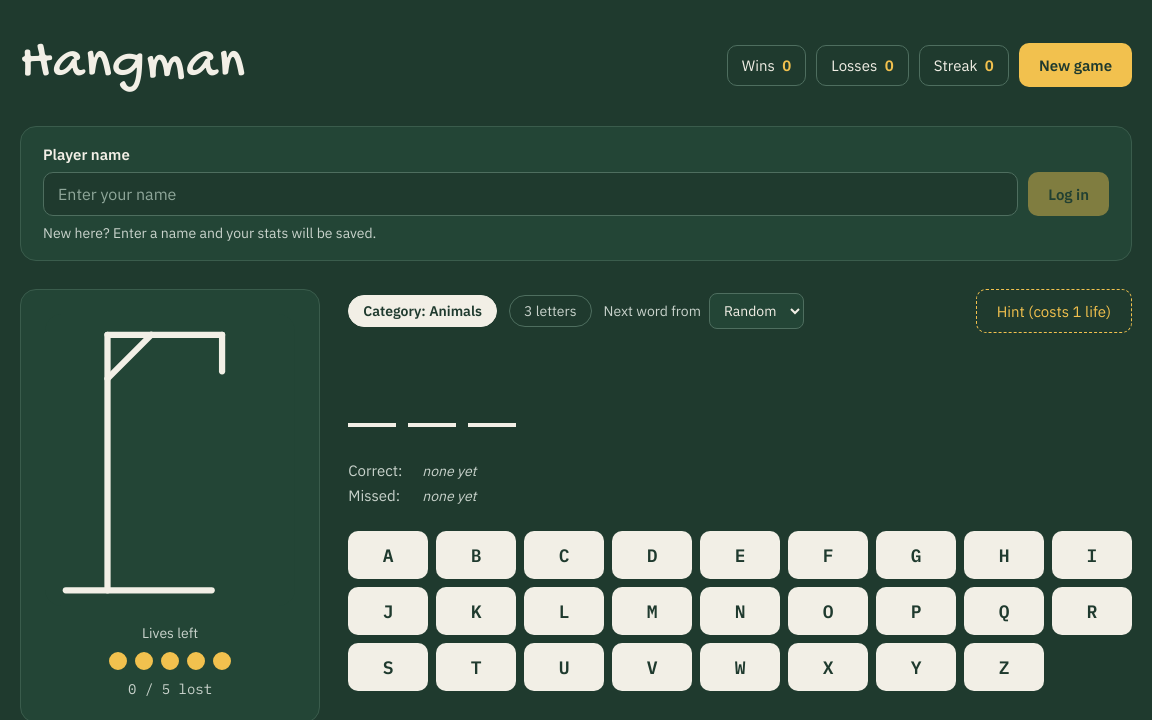
App — player login and stats › does not call the API when a guest finishes a game
What coordinates should you click on to do the following:
click the button named "Guess C"
I would click on:
 (564, 555)
Its box is [524,531,604,579].
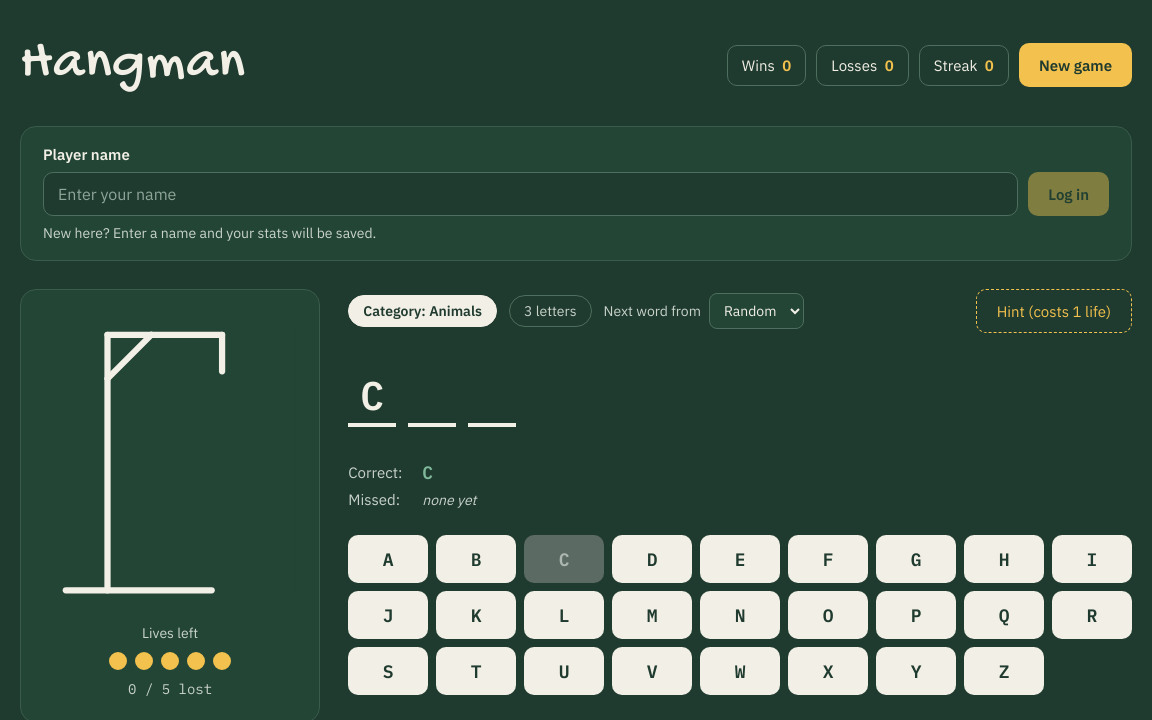
What coordinates should you click on to do the following:
click the button "A"
I would click on:
 (388, 559)
Its box is [348,535,428,583].
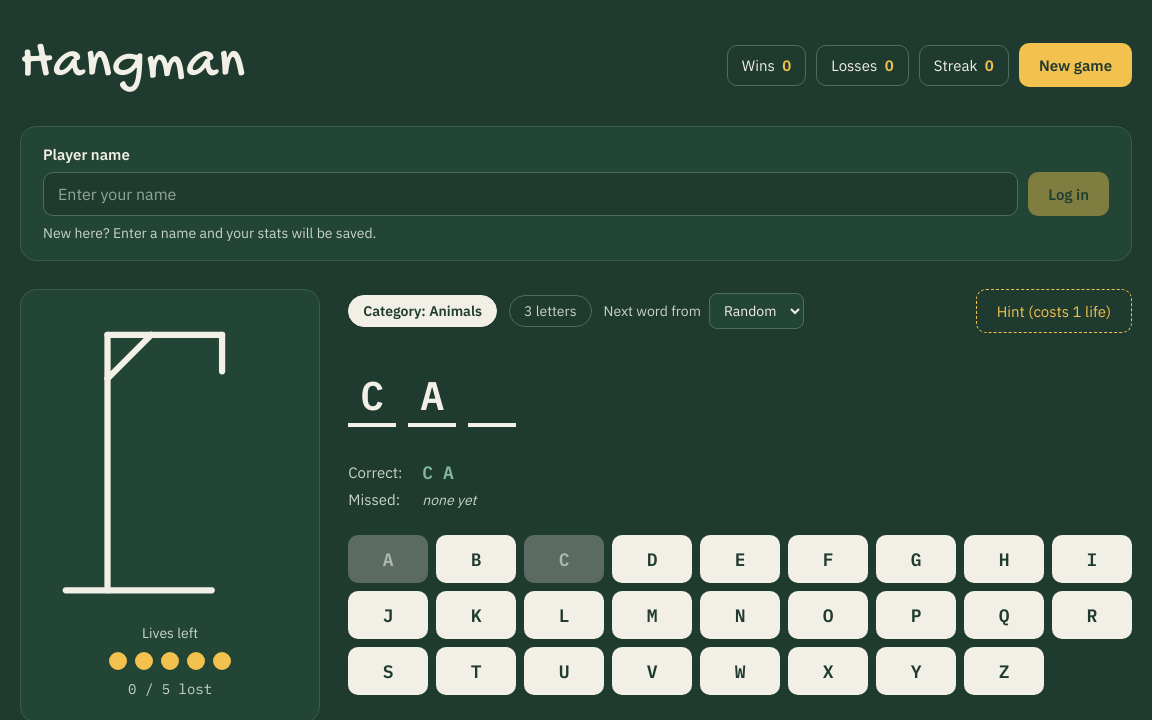
What coordinates should you click on to do the following:
click the button "T"
I would click on:
 (476, 671)
Its box is [436,647,516,695].
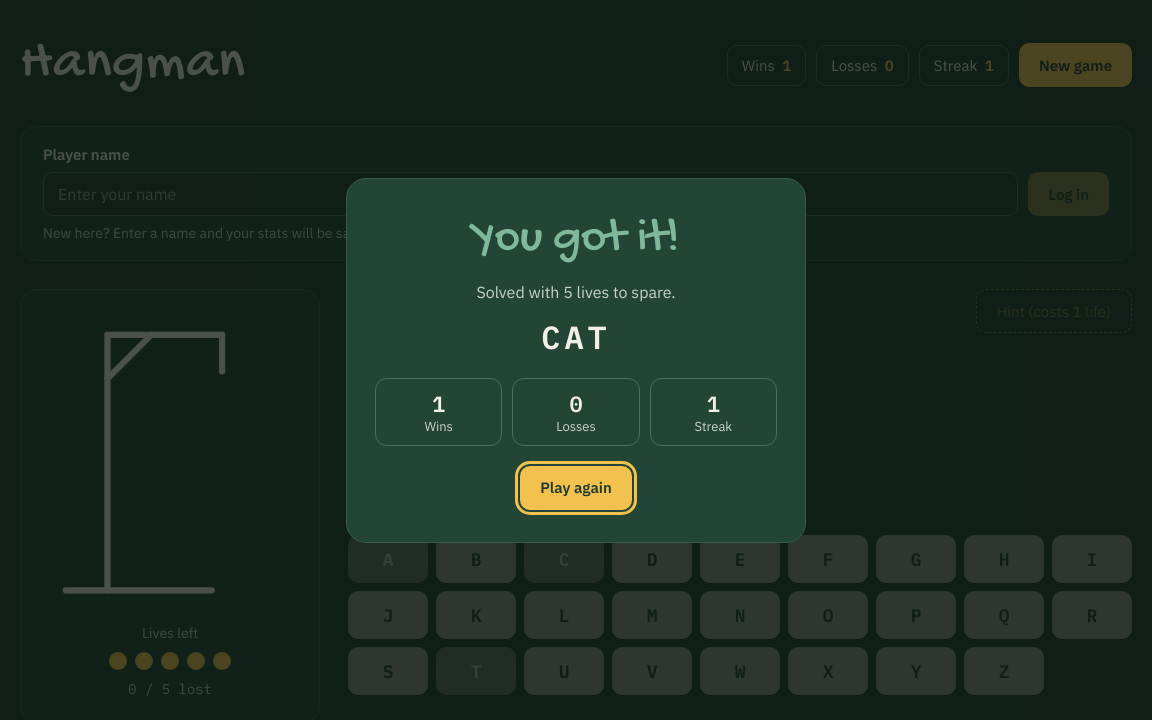
Check: the heading "You got it!" is shown, box [473,210,679,268]
